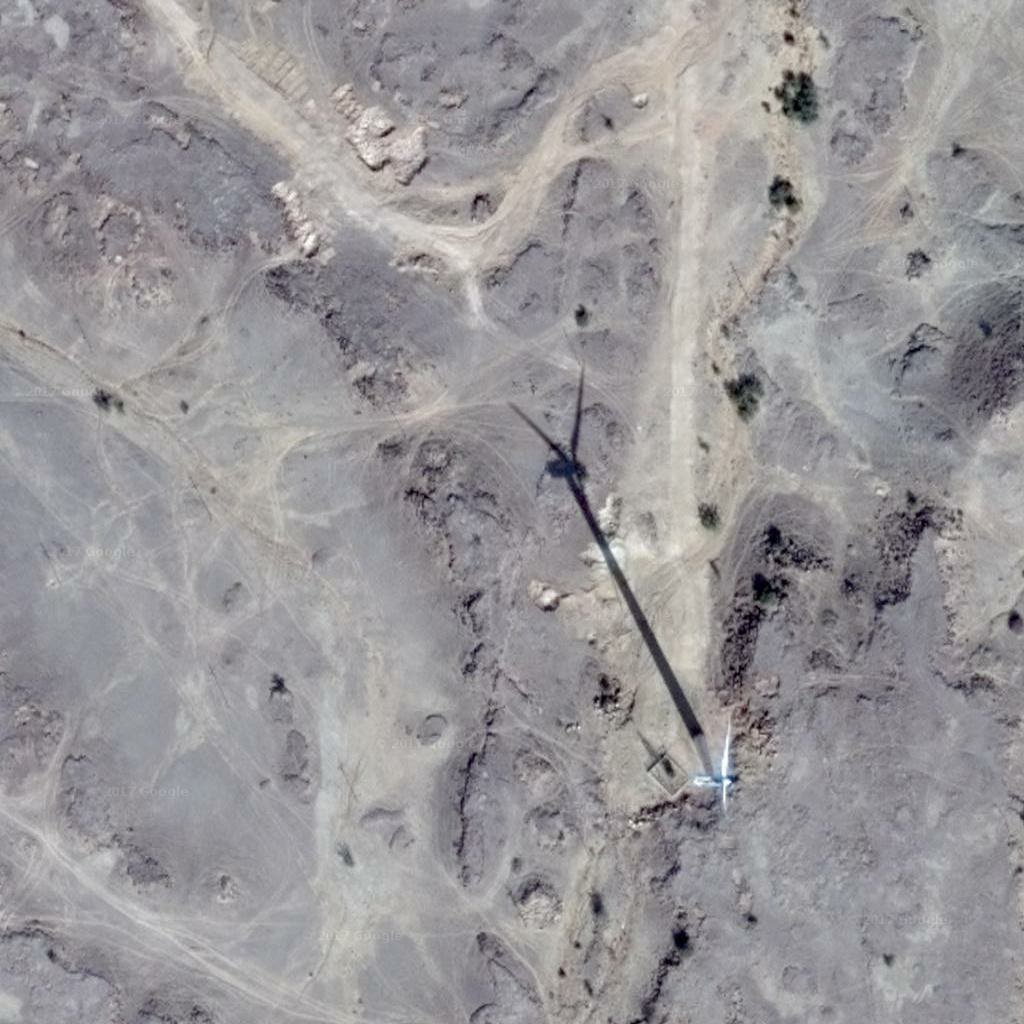Windmill: (507, 355, 700, 699)
